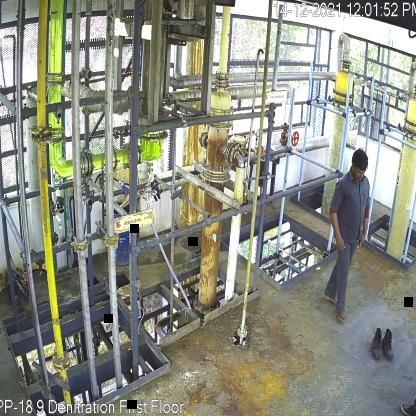no_shoes: (324, 290, 342, 308)
shoes: (381, 326, 397, 366), (368, 327, 383, 360)
